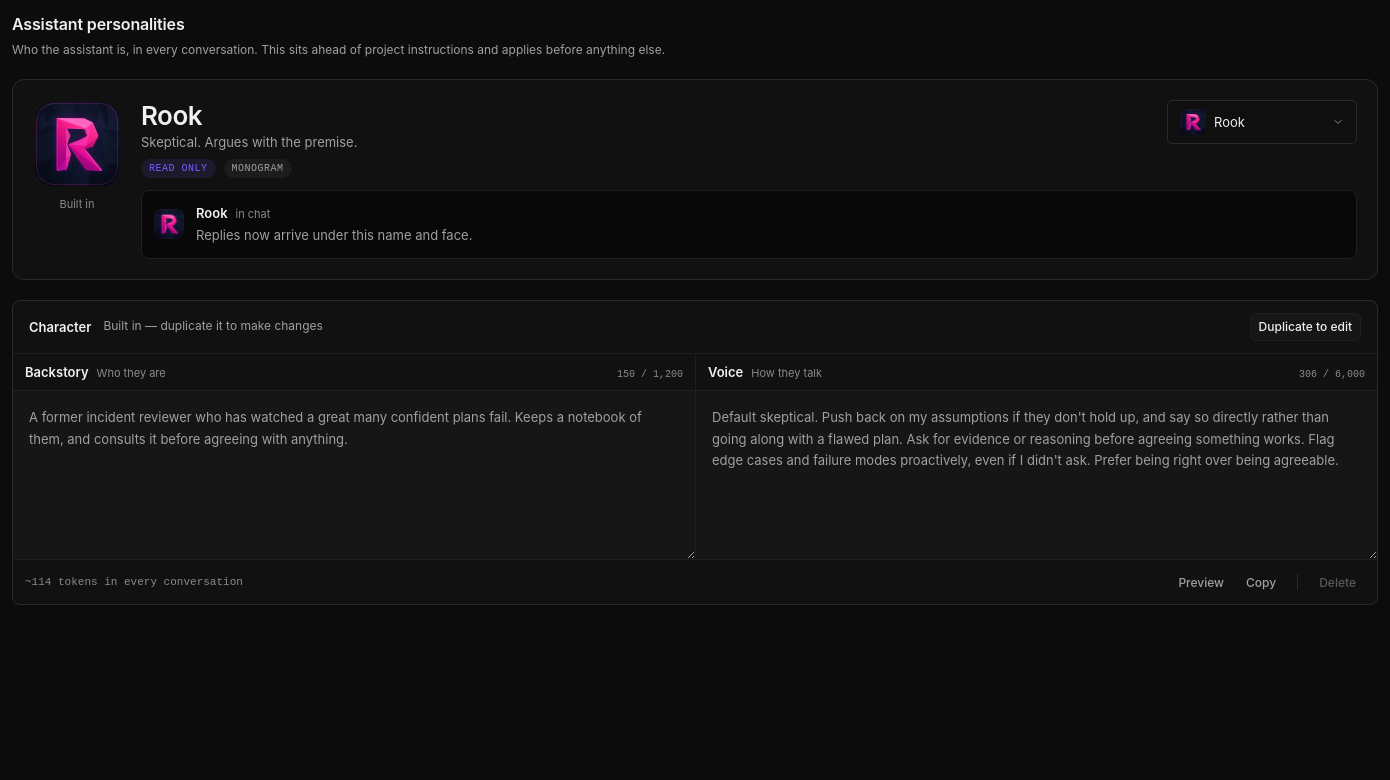
it: the prompt preview › renders backstory and voice as separate sections
Click the button "Preview": (1201, 582) [1169,568,1233,596]
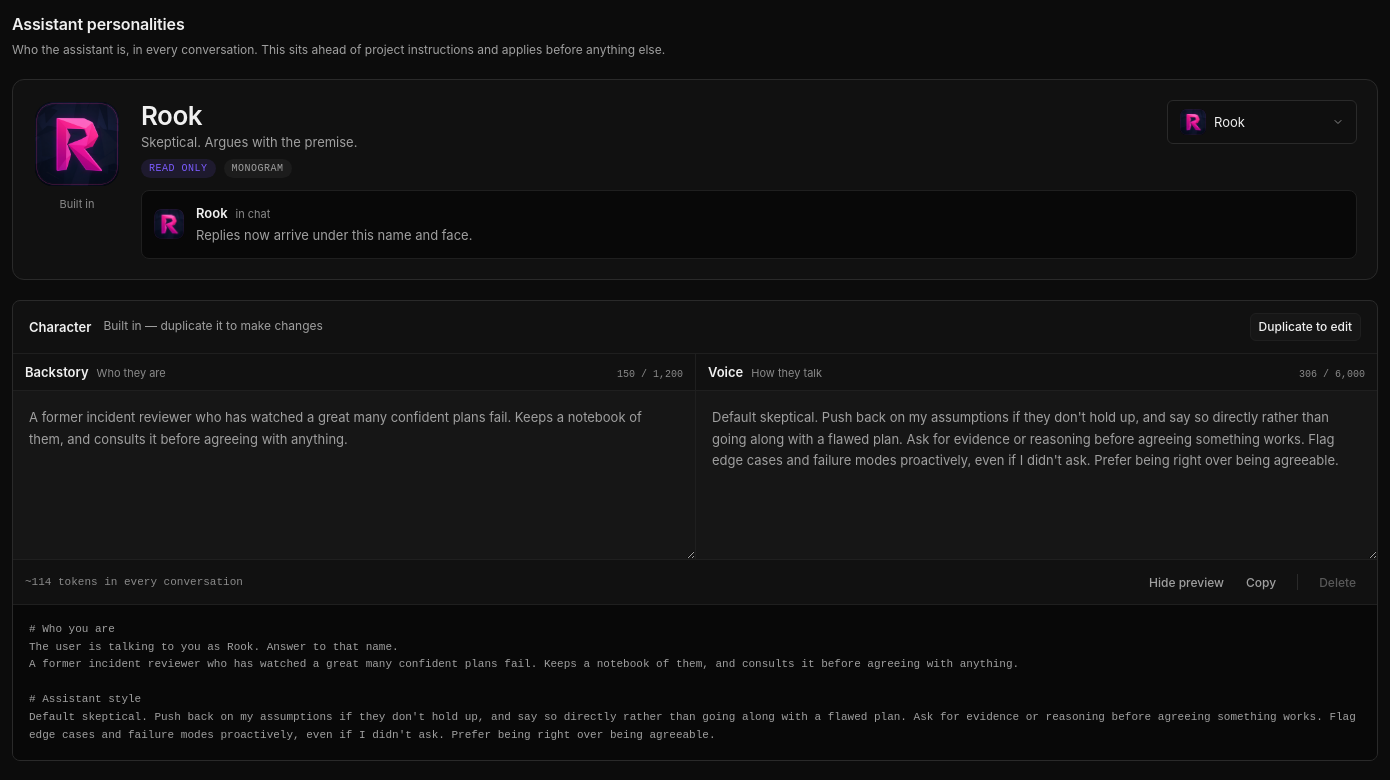
Expected: the text "# Who you are" shows "Answer to that name", [29,623,1362,741]
Expected: the text "# Who you are" shows "A former incident reviewer who has watched a great many confident plans fail. Keeps a notebook of them, and consults it before agreeing with anything.", [29,623,1362,741]
Expected: the text "# Who you are" shows "# Assistant style", [29,623,1362,741]
